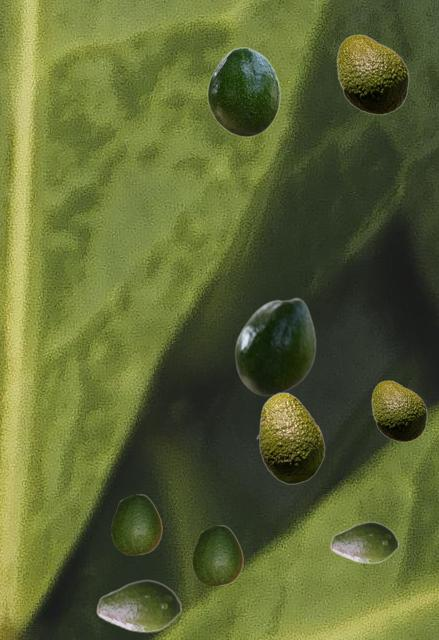avocado: (234, 297, 315, 395), (207, 47, 279, 136), (256, 392, 324, 483), (336, 34, 408, 114), (96, 579, 181, 632), (371, 380, 426, 441), (192, 525, 242, 585), (111, 494, 161, 554), (330, 521, 398, 563)
